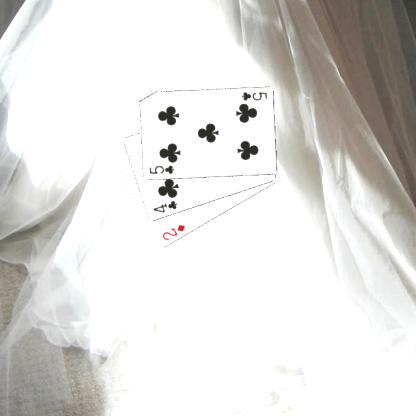2D: (160, 222, 186, 242)
4C: (150, 198, 179, 214)
5C: (146, 162, 175, 176), (238, 89, 268, 102)
